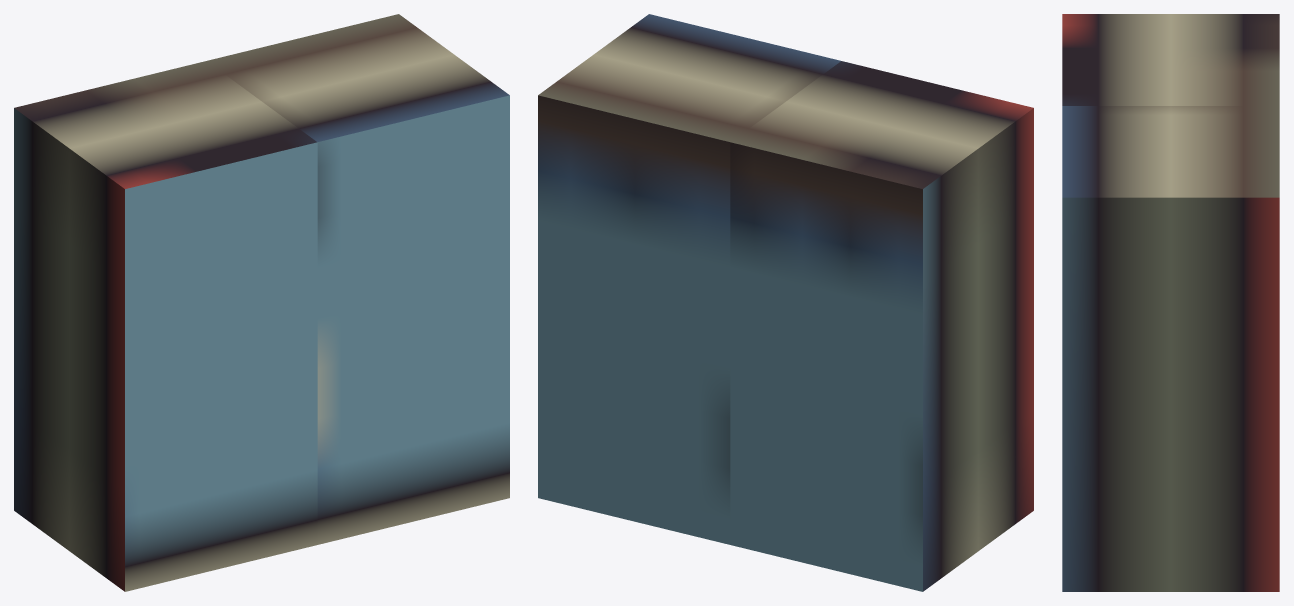
The model's file is casa1_paret2.fbx.
The picture shows the model from 3 angles, left to right: view 1: azimuth 30°, elevation 25°; view 2: azimuth 150°, elevation 25°; view 3: azimuth 270°, elevation 25°; orthographic projection. The views are drawn at different scales.
Visible parts, largest first — view 1: Wall1.011; view 2: Wall1.011; view 3: Wall1.011.
Part boxes in pixels (left/top/right/bottom): Wall1.011: left=14, top=14, right=509, bottom=591; Wall1.011: left=538, top=14, right=1033, bottom=591; Wall1.011: left=1062, top=14, right=1279, bottom=591.
Bounding box in the file's own units: 200 × 200 × 100.
